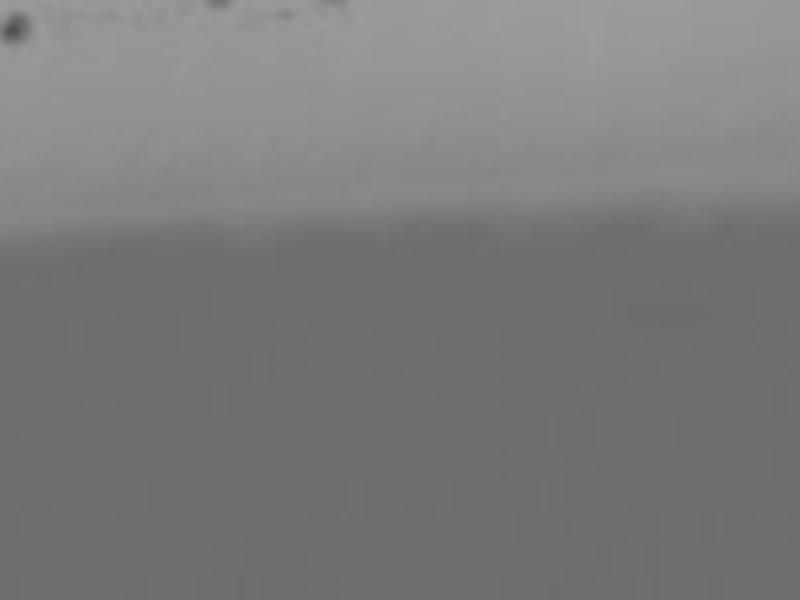defect: (4, 16, 28, 41), (203, 1, 233, 11), (273, 10, 292, 21)
